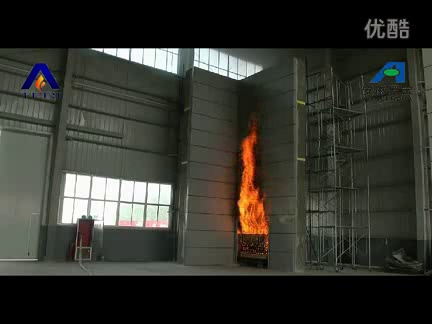fire: (236, 118, 270, 236)
